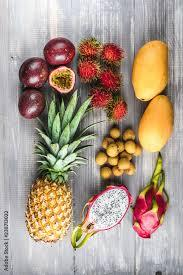thanh_long: (133, 159, 170, 239)
xoai: (132, 39, 168, 101), (139, 95, 174, 153)
